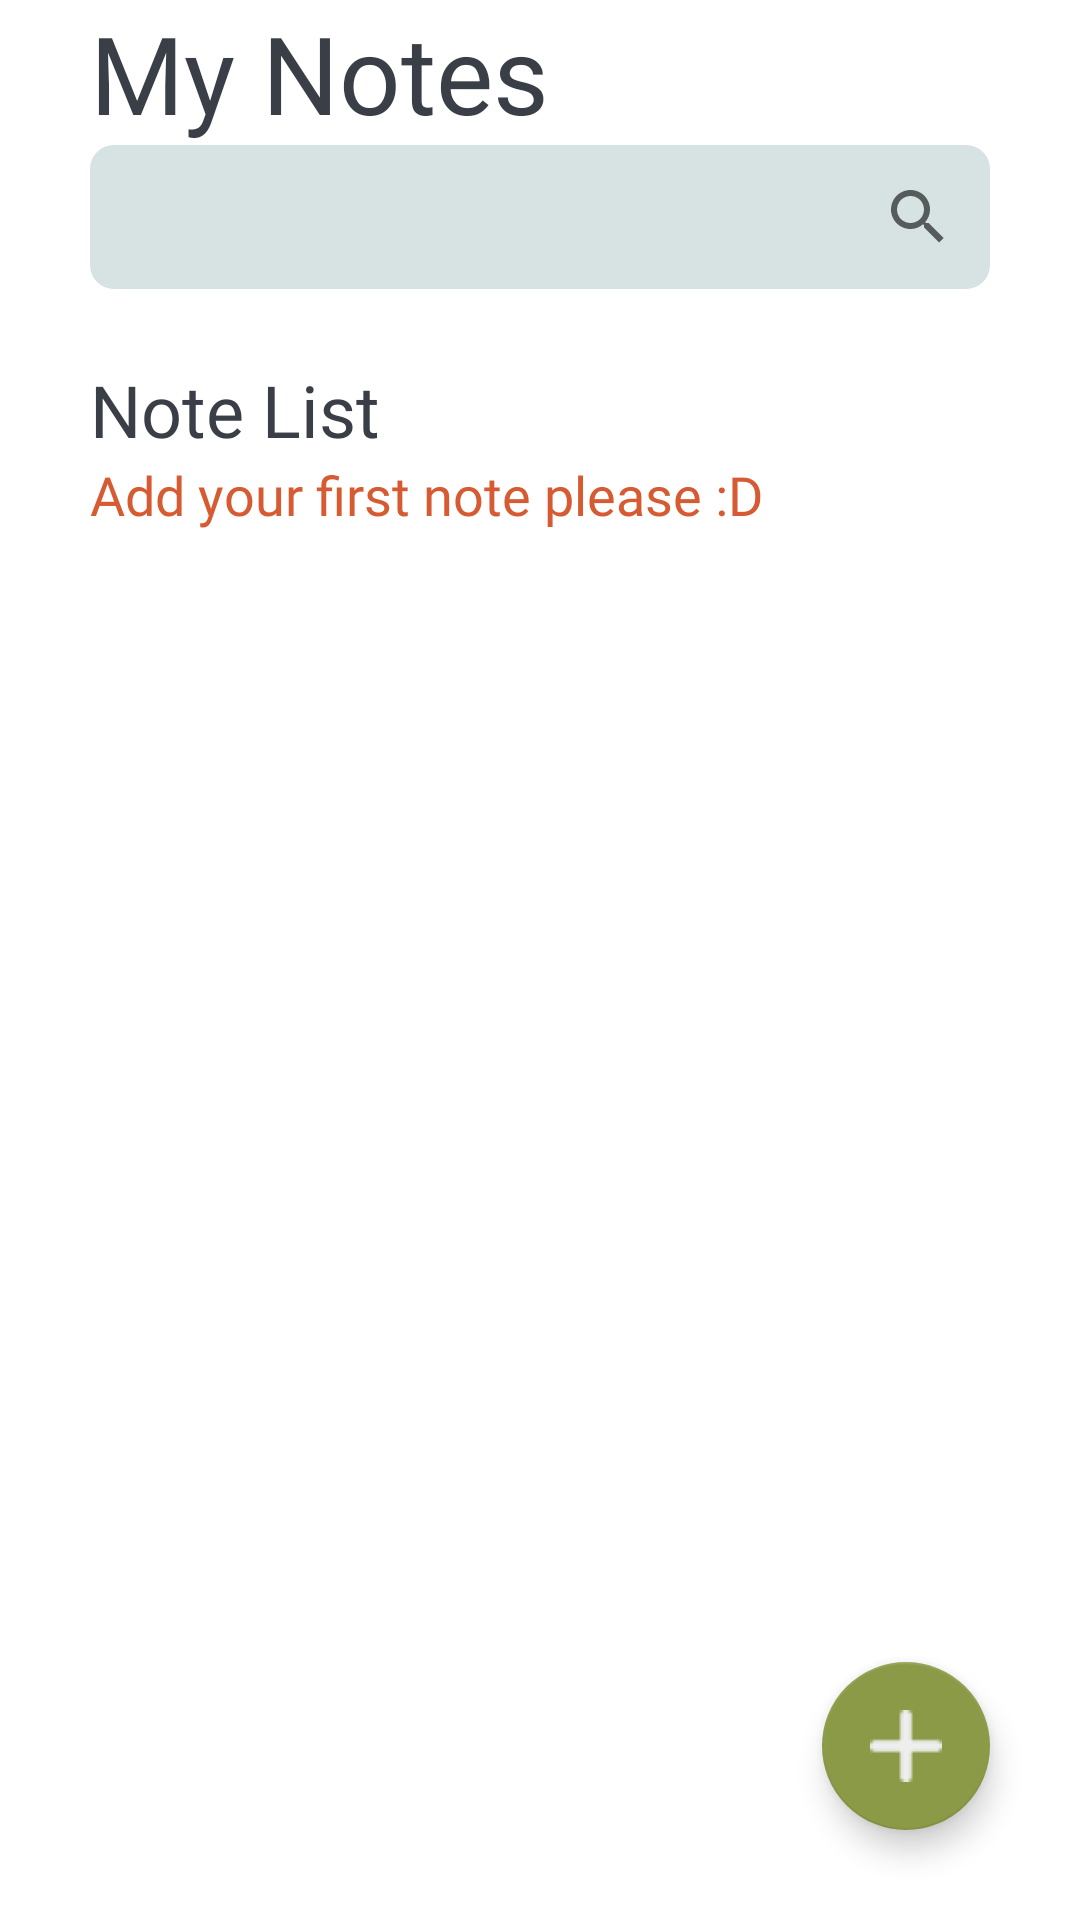

Named icons in this screenshot (1080w x 1920h) and their bounding boxes, Rect(x1, y1, x2, y2):
plus: Rect(822, 1662, 990, 1830)
